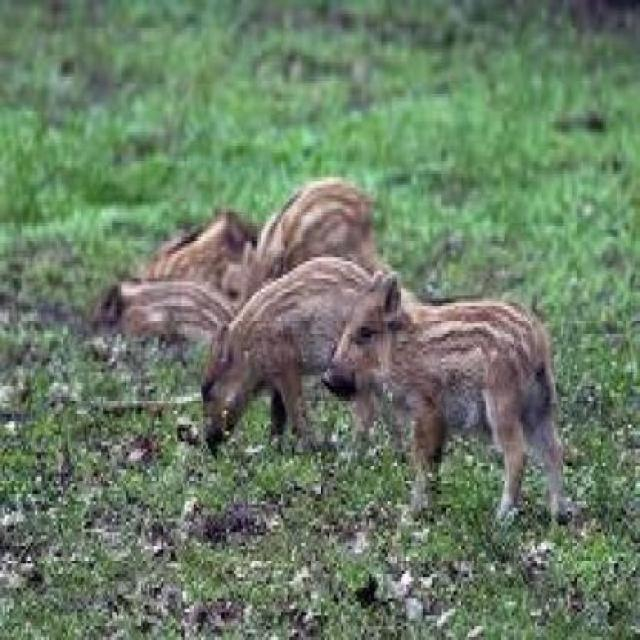wildboar: (323, 268, 574, 530), (190, 252, 405, 478), (228, 172, 374, 358), (132, 202, 257, 348), (95, 270, 238, 375)
